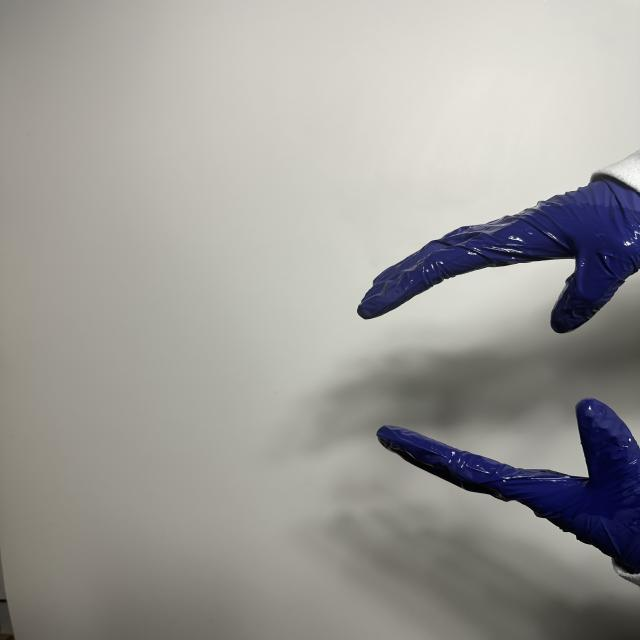gloves_contaminated: (357, 150, 640, 333), (357, 154, 640, 333), (377, 398, 640, 585)
